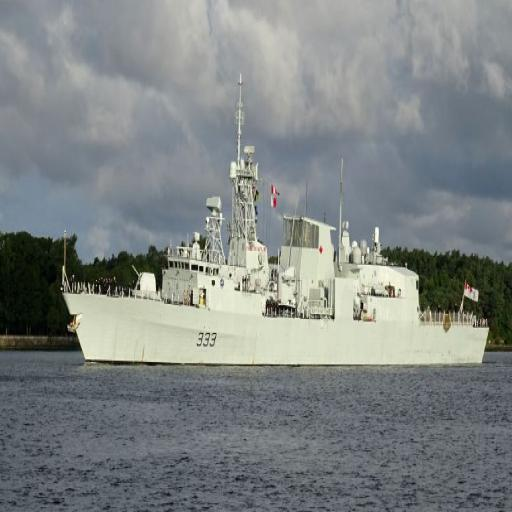Fragata: (56, 80, 492, 367)
